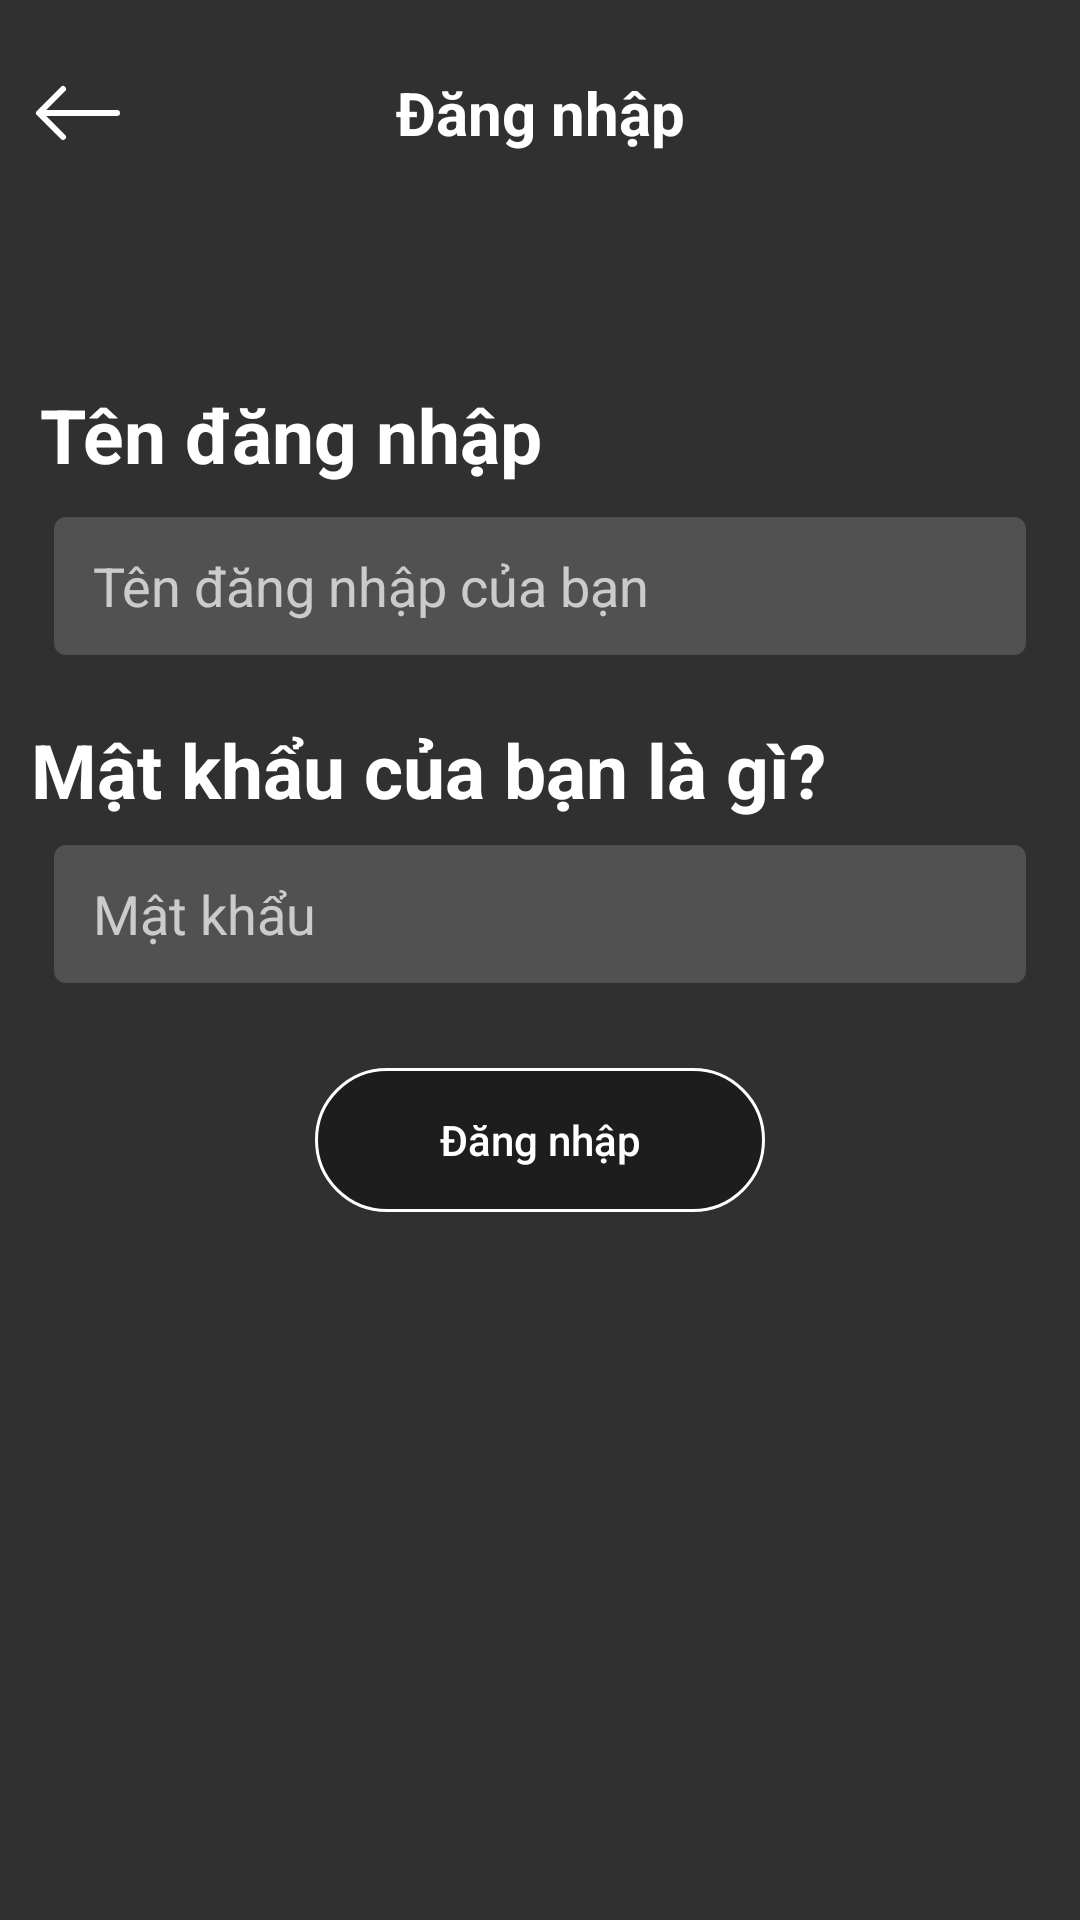

Icons on this 1080 × 1920 Android screen, each with its box as [x1=x1, y1=y1, x2=x2, y2=y2]:
arrow left: [x1=36, y1=85, x2=120, y2=140]
